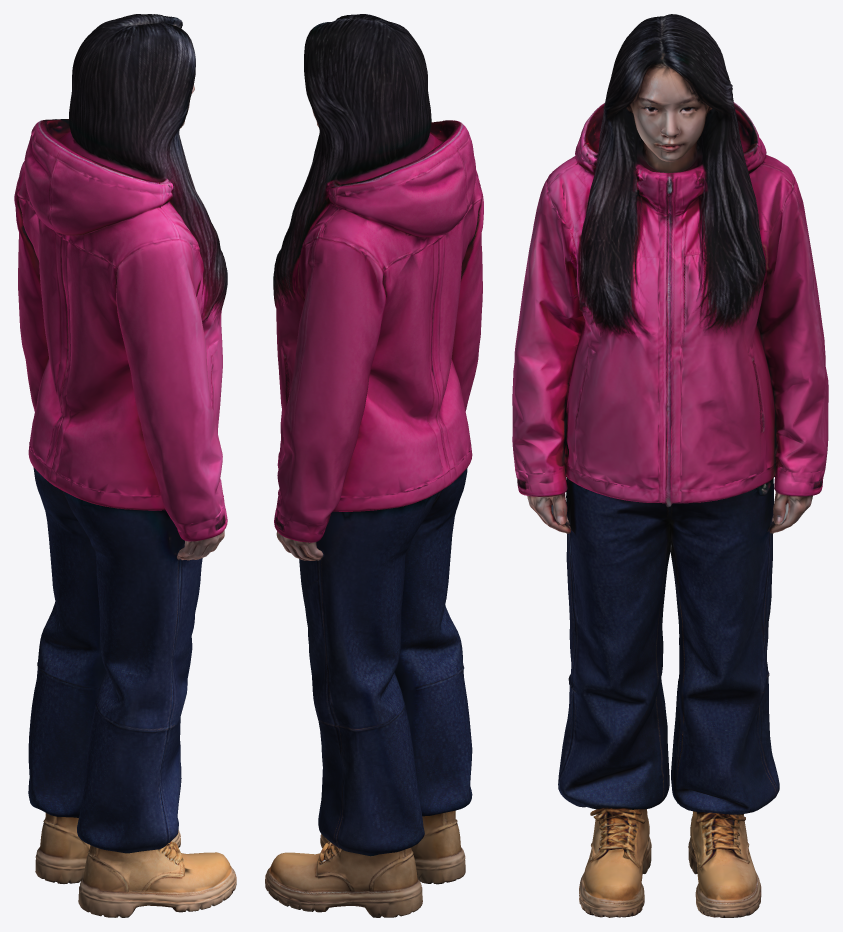
The model's file is character_unrigged.glb.
The picture shows the model from 3 angles, left to right: view 1: azimuth 30°, elevation 25°; view 2: azimuth 150°, elevation 25°; view 3: azimuth 270°, elevation 25°; orthographic projection.
Visible parts, largest first — view 1: tripo_node_0c872671-73bd-4cd0-9c26-ece95e3d57b2; view 2: tripo_node_0c872671-73bd-4cd0-9c26-ece95e3d57b2; view 3: tripo_node_0c872671-73bd-4cd0-9c26-ece95e3d57b2.
Part boxes in pixels (x1,y1,x2,y2): tripo_node_0c872671-73bd-4cd0-9c26-ece95e3d57b2: [14, 14, 236, 917]; tripo_node_0c872671-73bd-4cd0-9c26-ece95e3d57b2: [265, 14, 483, 917]; tripo_node_0c872671-73bd-4cd0-9c26-ece95e3d57b2: [512, 14, 828, 917].
Size of the model in its own units: 0.1979 by 0.9797 by 0.3232.
1 material, 1 textured.
